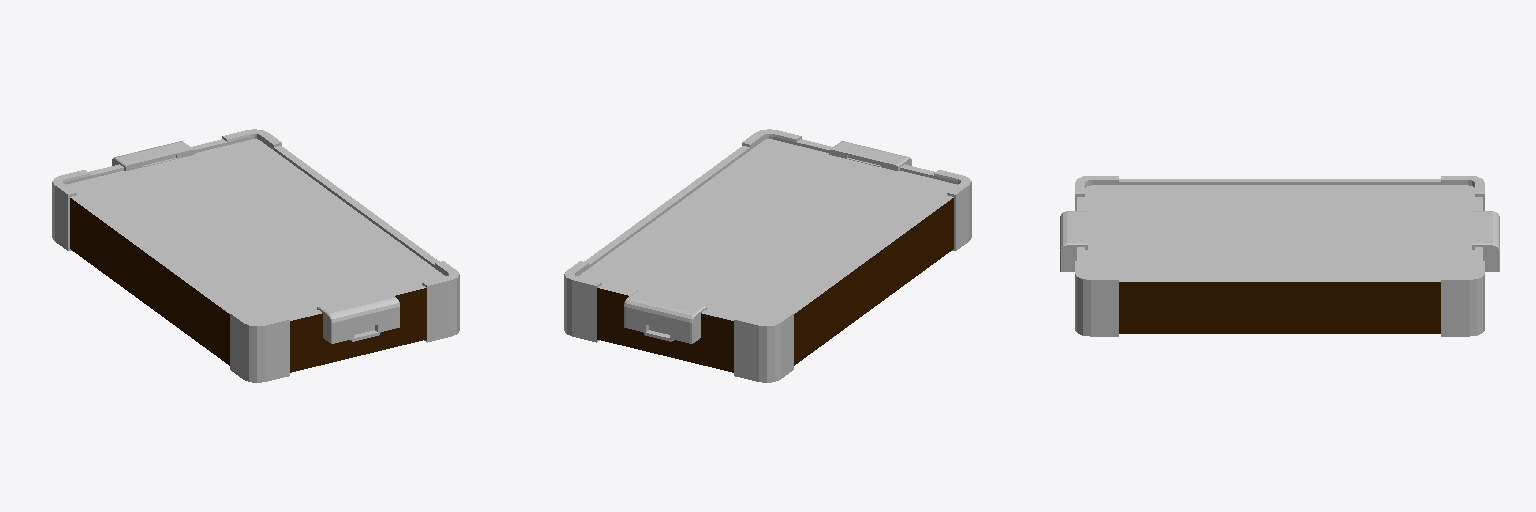
The model's file is HockeyTable.obj.
The picture shows the model from 3 angles: view 1: azimuth 30°, elevation 25°; view 2: azimuth 150°, elevation 25°; view 3: azimuth 270°, elevation 25°; orthographic projection.
Visible parts, largest first — view 1: Cube_Cube.001, Cube.001_Cube.002; view 2: Cube_Cube.001, Cube.001_Cube.002; view 3: Cube_Cube.001, Cube.001_Cube.002.
Part boxes in pixels (x1,y1,x2,y2): Cube_Cube.001: (52, 129, 459, 382); Cube.001_Cube.002: (112, 141, 399, 343); Cube_Cube.001: (564, 129, 971, 382); Cube.001_Cube.002: (624, 141, 911, 343); Cube_Cube.001: (1075, 176, 1484, 336); Cube.001_Cube.002: (1060, 211, 1499, 271).
Bounding box in the file's own units: 6.07 × 1.54 × 10.83.